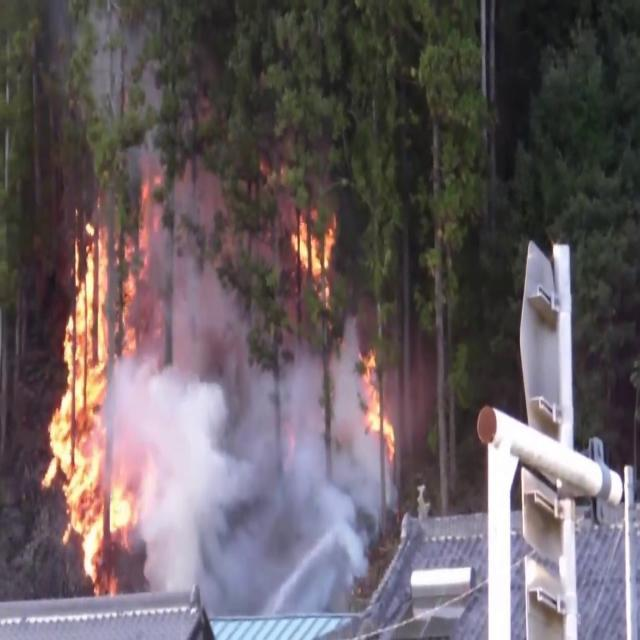Fire: (37, 205, 149, 579), (357, 336, 398, 462), (288, 206, 340, 294)
Smoke: (112, 266, 400, 634)
